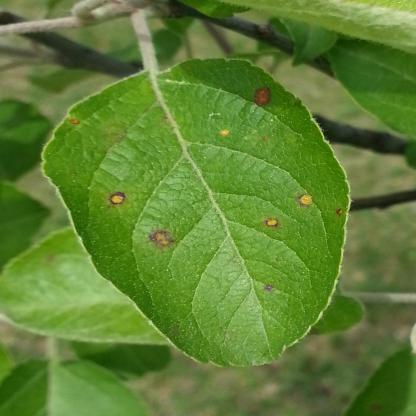apple rust leaf: (56, 37, 416, 286)
